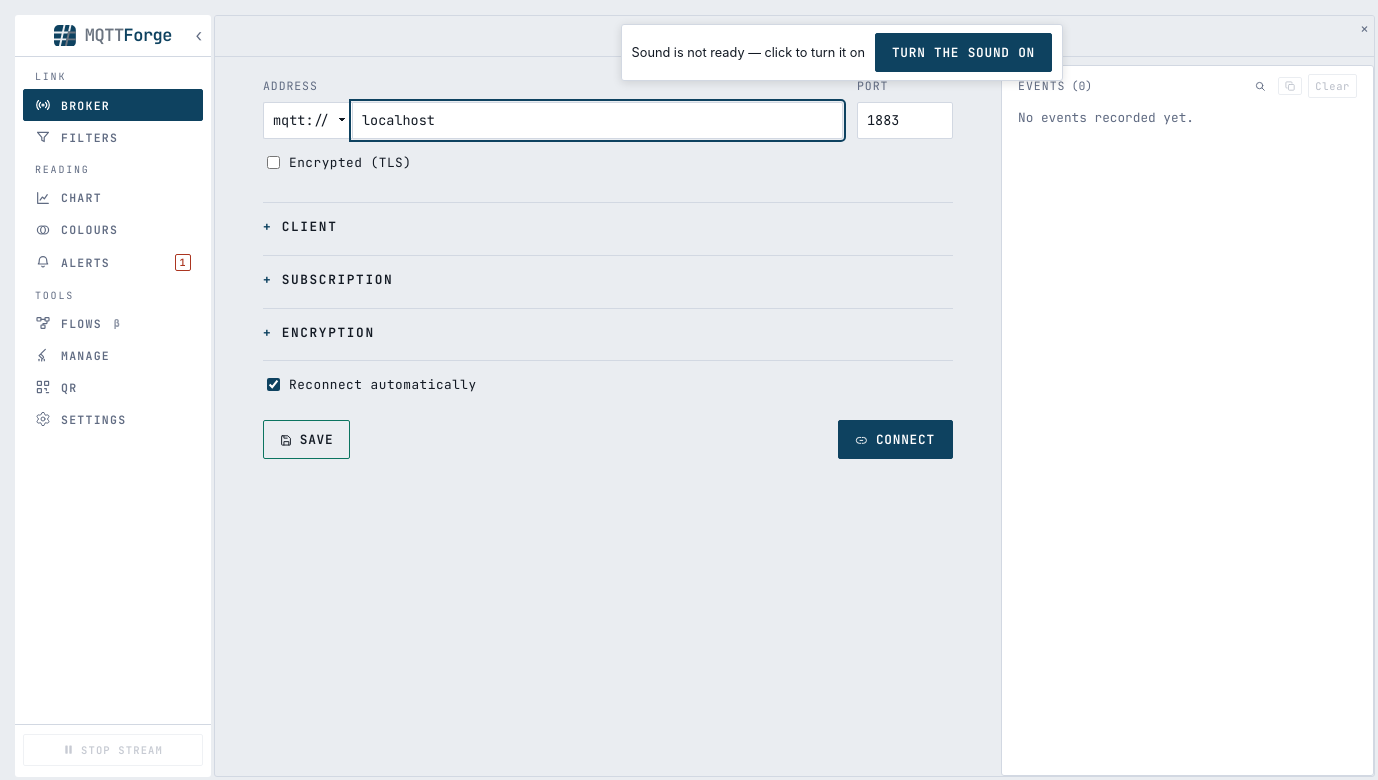
the alerts console › says the sound is not ready rather than failing quietly
Expected: the navigation bar named "Panels" is shown, top-left (15, 57), bottom-right (211, 441)
Expected: the text "Sound is not ready — click to turn it on" is shown, top-left (632, 43), bottom-right (865, 62)
Click the button "Settings": (113, 419) top-left (23, 403), bottom-right (203, 435)
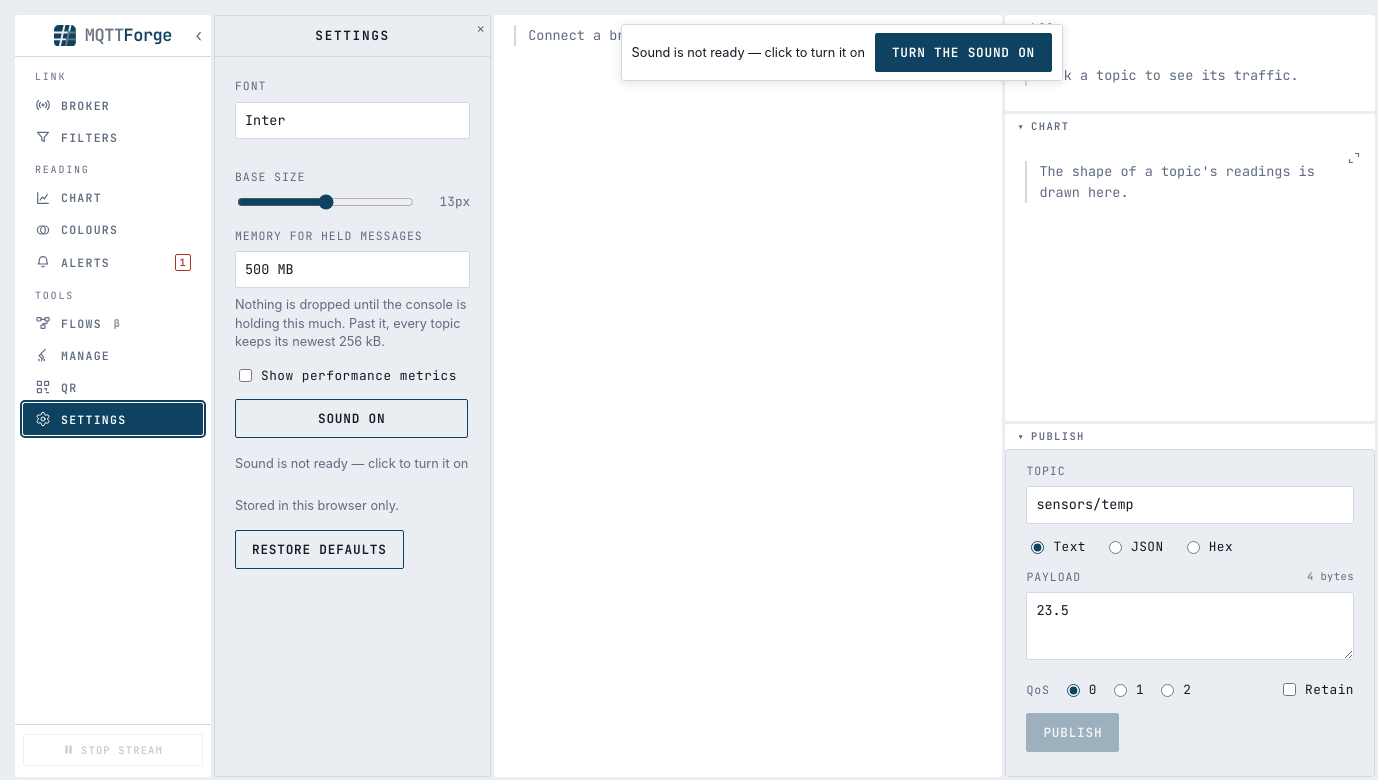
Expected: the button "Sound on" is shown, top-left (235, 399), bottom-right (468, 438)
Expected: the text "Sound is not ready — click to turn it on" below "Show performance metrics" is shown, top-left (235, 456), bottom-right (468, 471)
